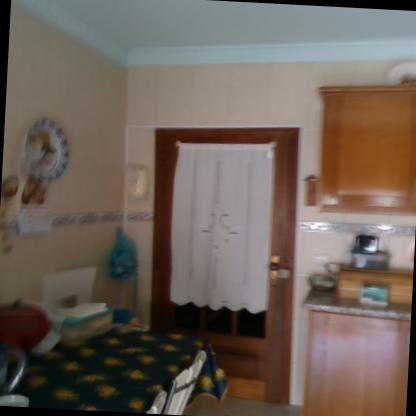closed: (131, 108, 316, 408)
